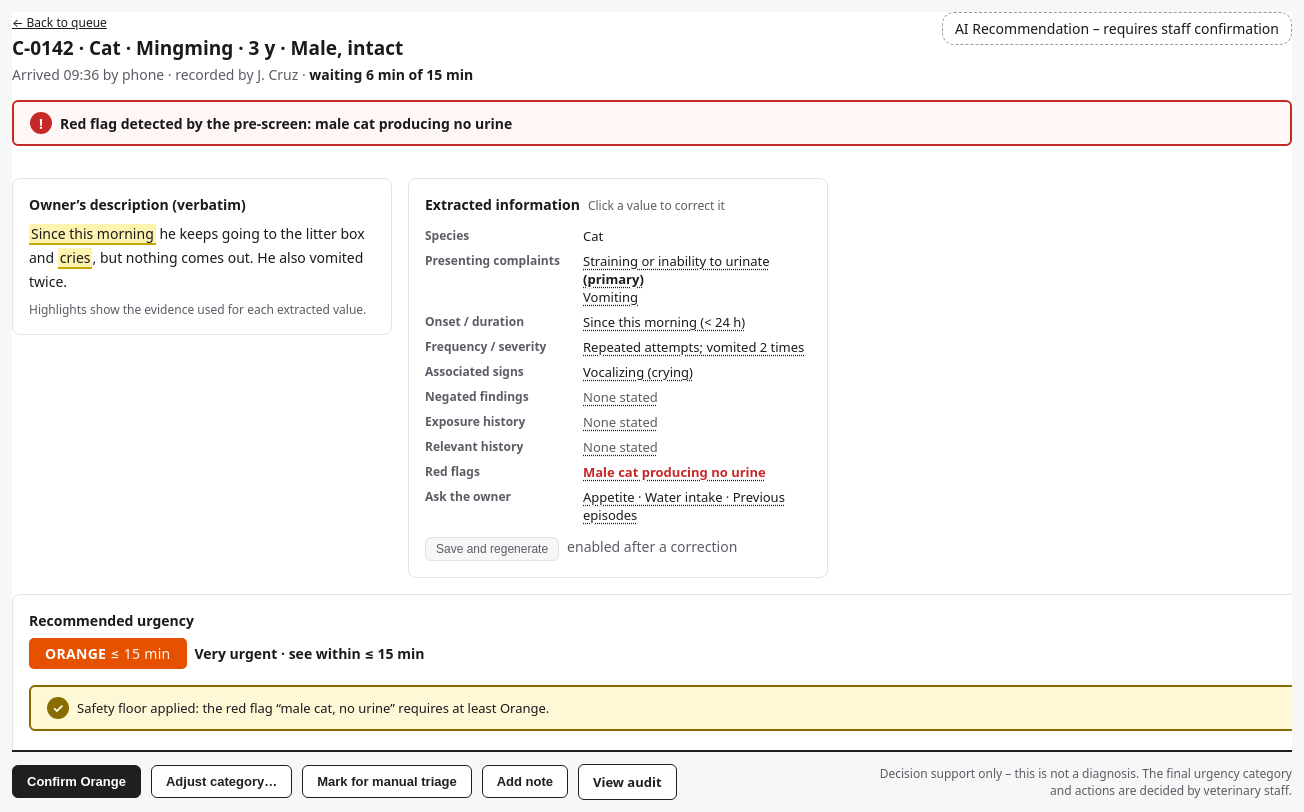
Test: CaseReview panel 2 — correcting the extraction (P07 §7.2, FR-27) › shows the server's wording when a value is refused
Expected: the text "Onset / duration" is shown, [425,313,524,330]
Click the button "Since this morning (< 24 h)" at (664, 322), box [583,313,745,331]
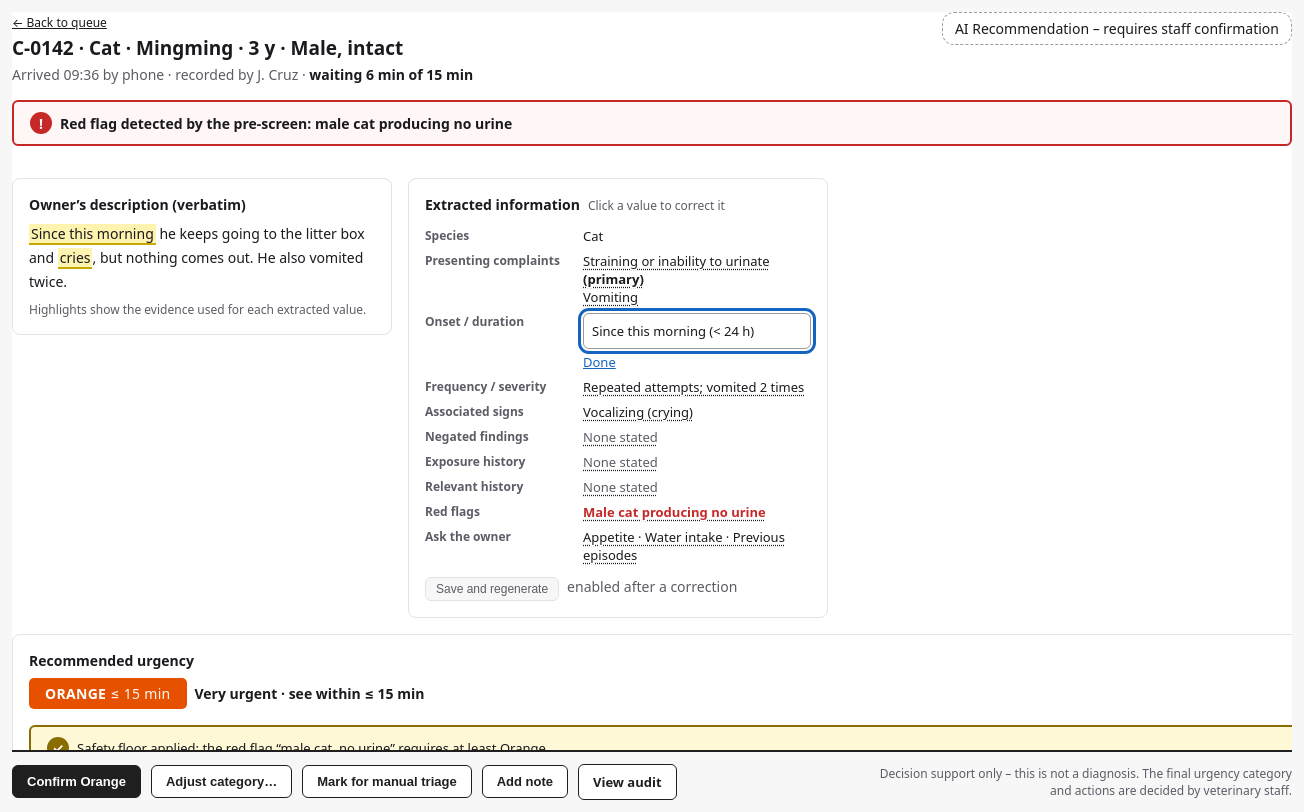
Replace the text in the field named "Onset / duration" with "Since yesterday" at (697, 331), box [583,313,811,349]
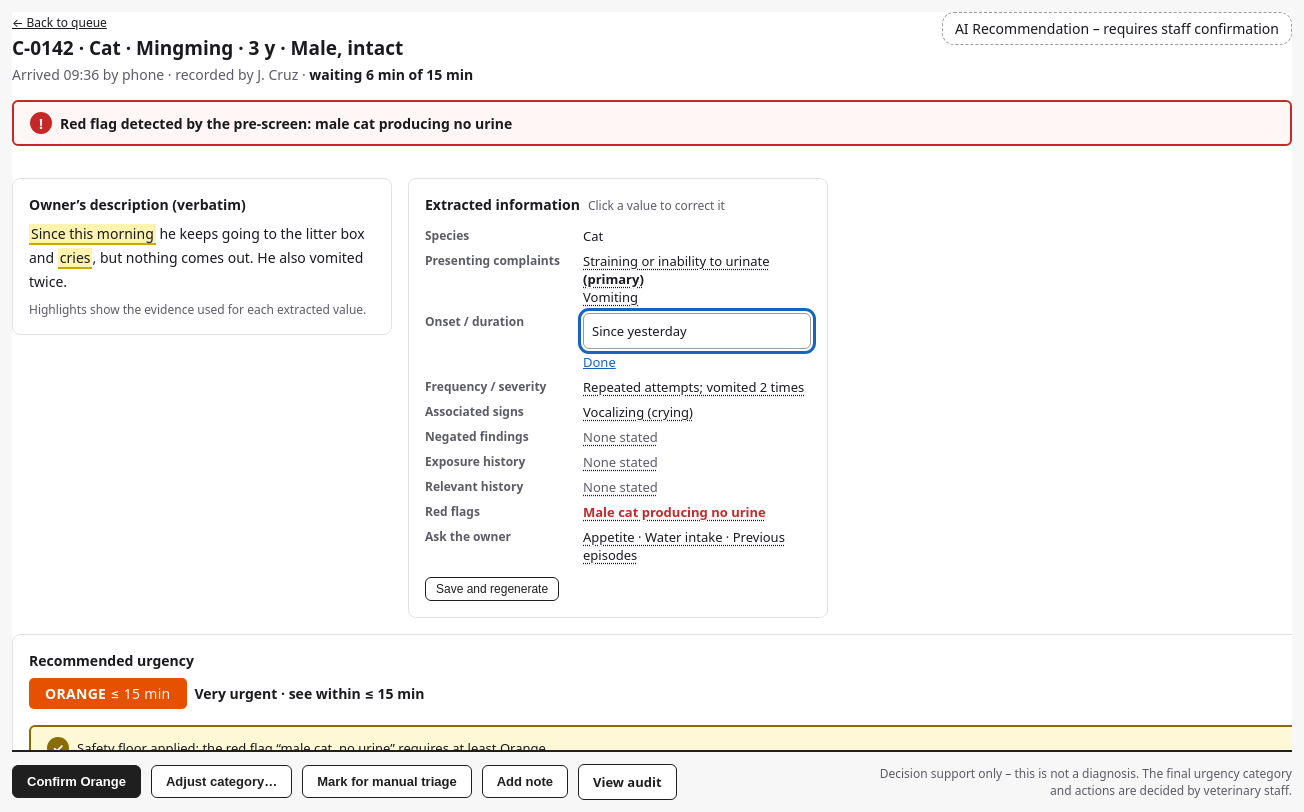
Click the button "Done" at (599, 362), box [583,353,616,371]
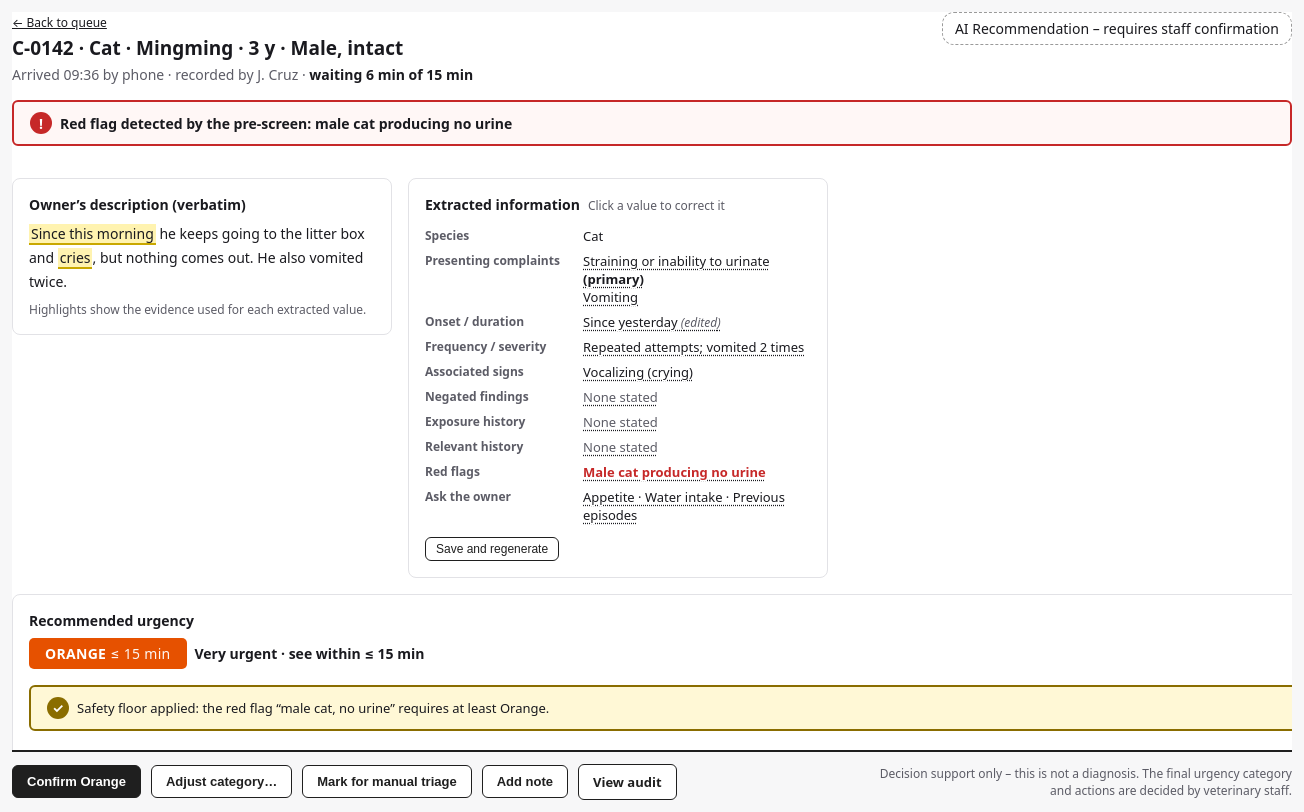
Click the button "Save and regenerate" at (492, 549), box [425,537,559,561]
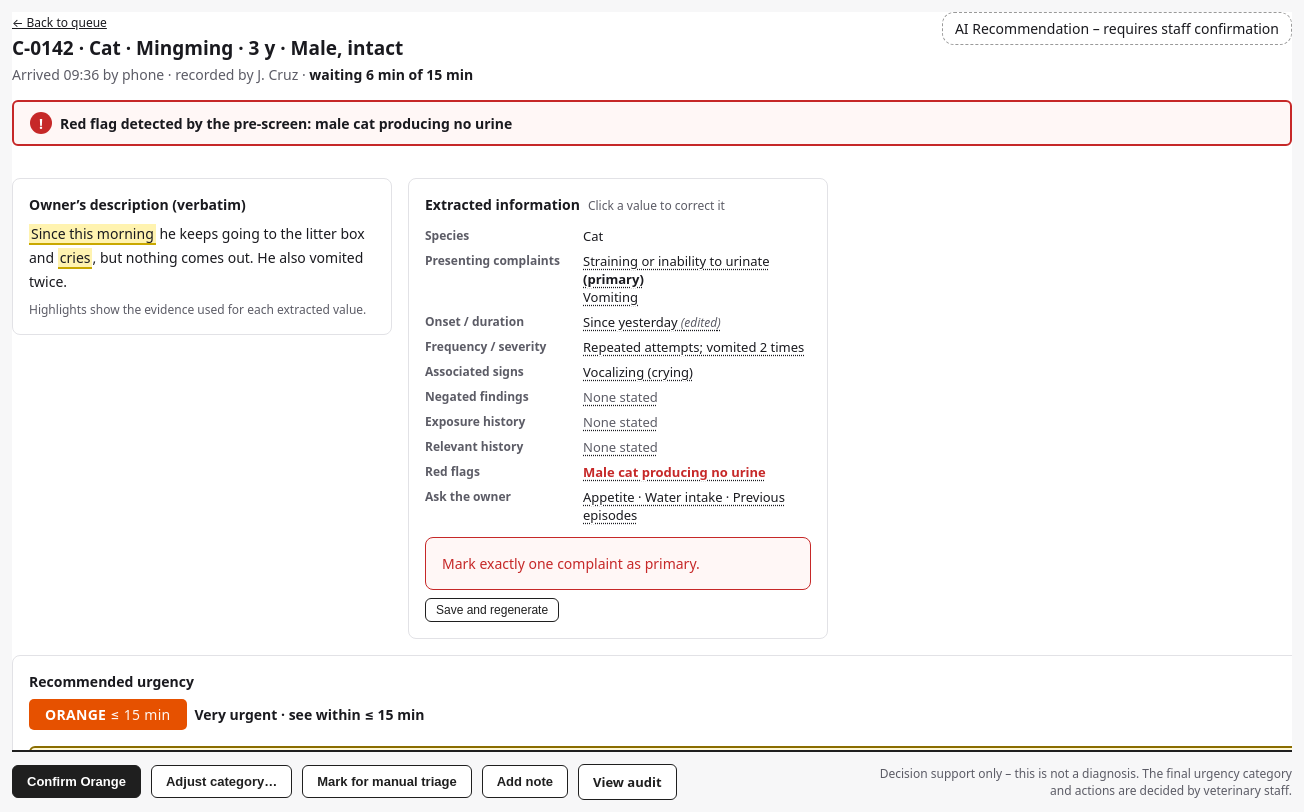
Expected: the text "Mark exactly one complaint as primary." is shown, [425,537,811,590]
